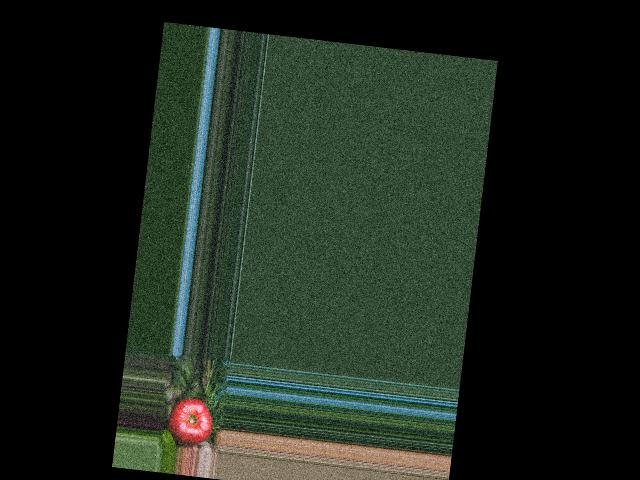tomato: (164, 396, 215, 449)
